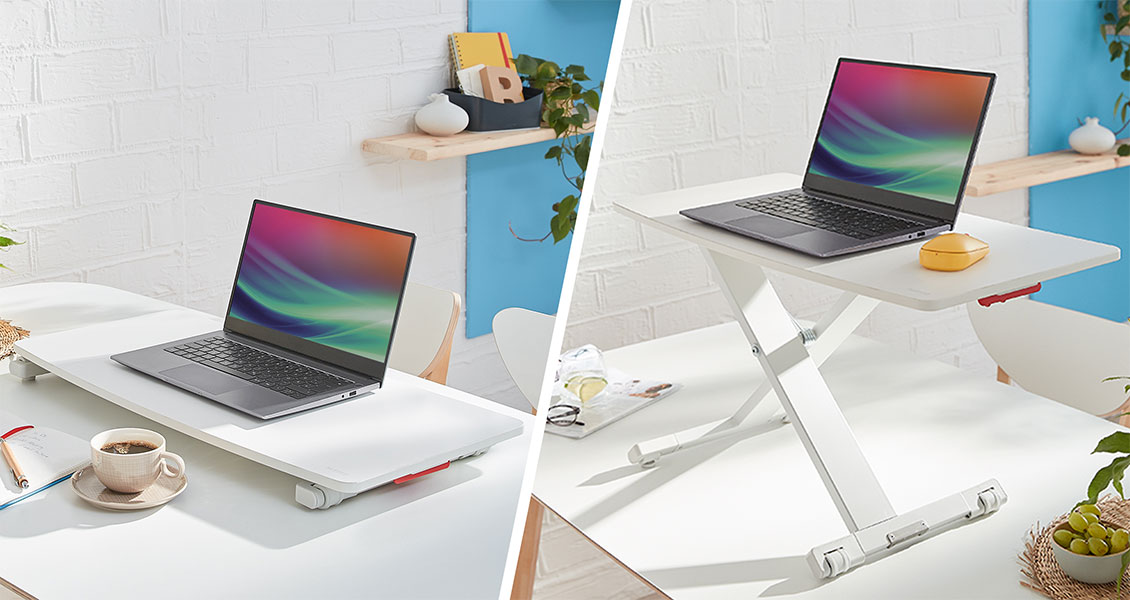not a gesture sign: (115, 200, 414, 418), (786, 390, 849, 473)
